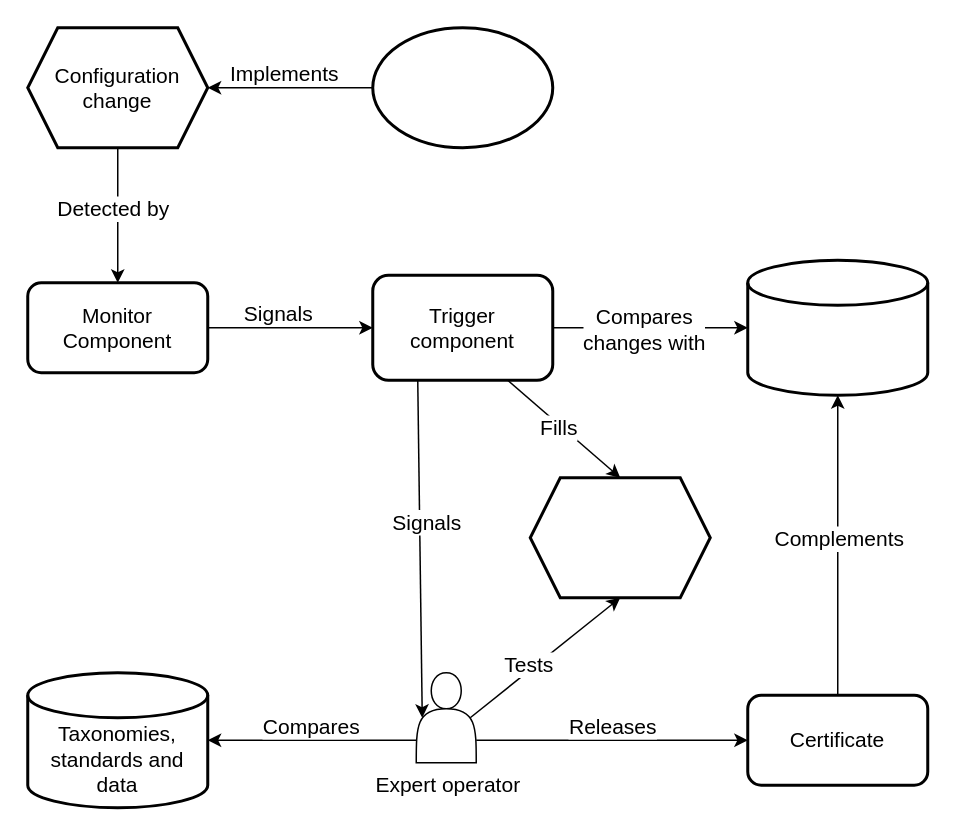
Image size: 954x834. Some labels were removed from this diagram. Here are the shapes that lost their labels. From the top down, the centre of each, then its label:
At [462,87]: "Manufacturer".
At [837,327]: "System certificates".
At [619,537]: "Changes (Properties, attributes)".
